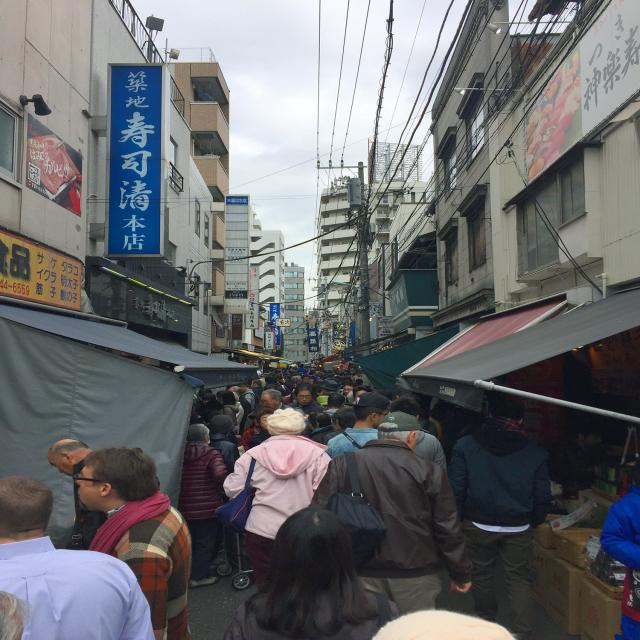body: (309, 410, 473, 610), (446, 395, 554, 640), (213, 505, 409, 640), (0, 474, 157, 640), (70, 443, 196, 640), (221, 407, 334, 595), (177, 423, 227, 589), (46, 437, 107, 551), (250, 361, 376, 415), (597, 483, 640, 640), (550, 416, 608, 524), (363, 603, 523, 640), (324, 389, 394, 460), (388, 396, 448, 472), (205, 414, 241, 475), (606, 434, 636, 498), (0, 588, 36, 640), (239, 408, 278, 452), (322, 409, 359, 446), (428, 402, 460, 440), (228, 386, 252, 436), (248, 408, 276, 450), (306, 412, 335, 444), (215, 389, 240, 426), (197, 387, 213, 442), (243, 394, 266, 432), (417, 405, 439, 441), (236, 382, 256, 411), (200, 392, 217, 425), (211, 403, 225, 437), (184, 402, 200, 426), (396, 388, 414, 399), (302, 412, 309, 425)
